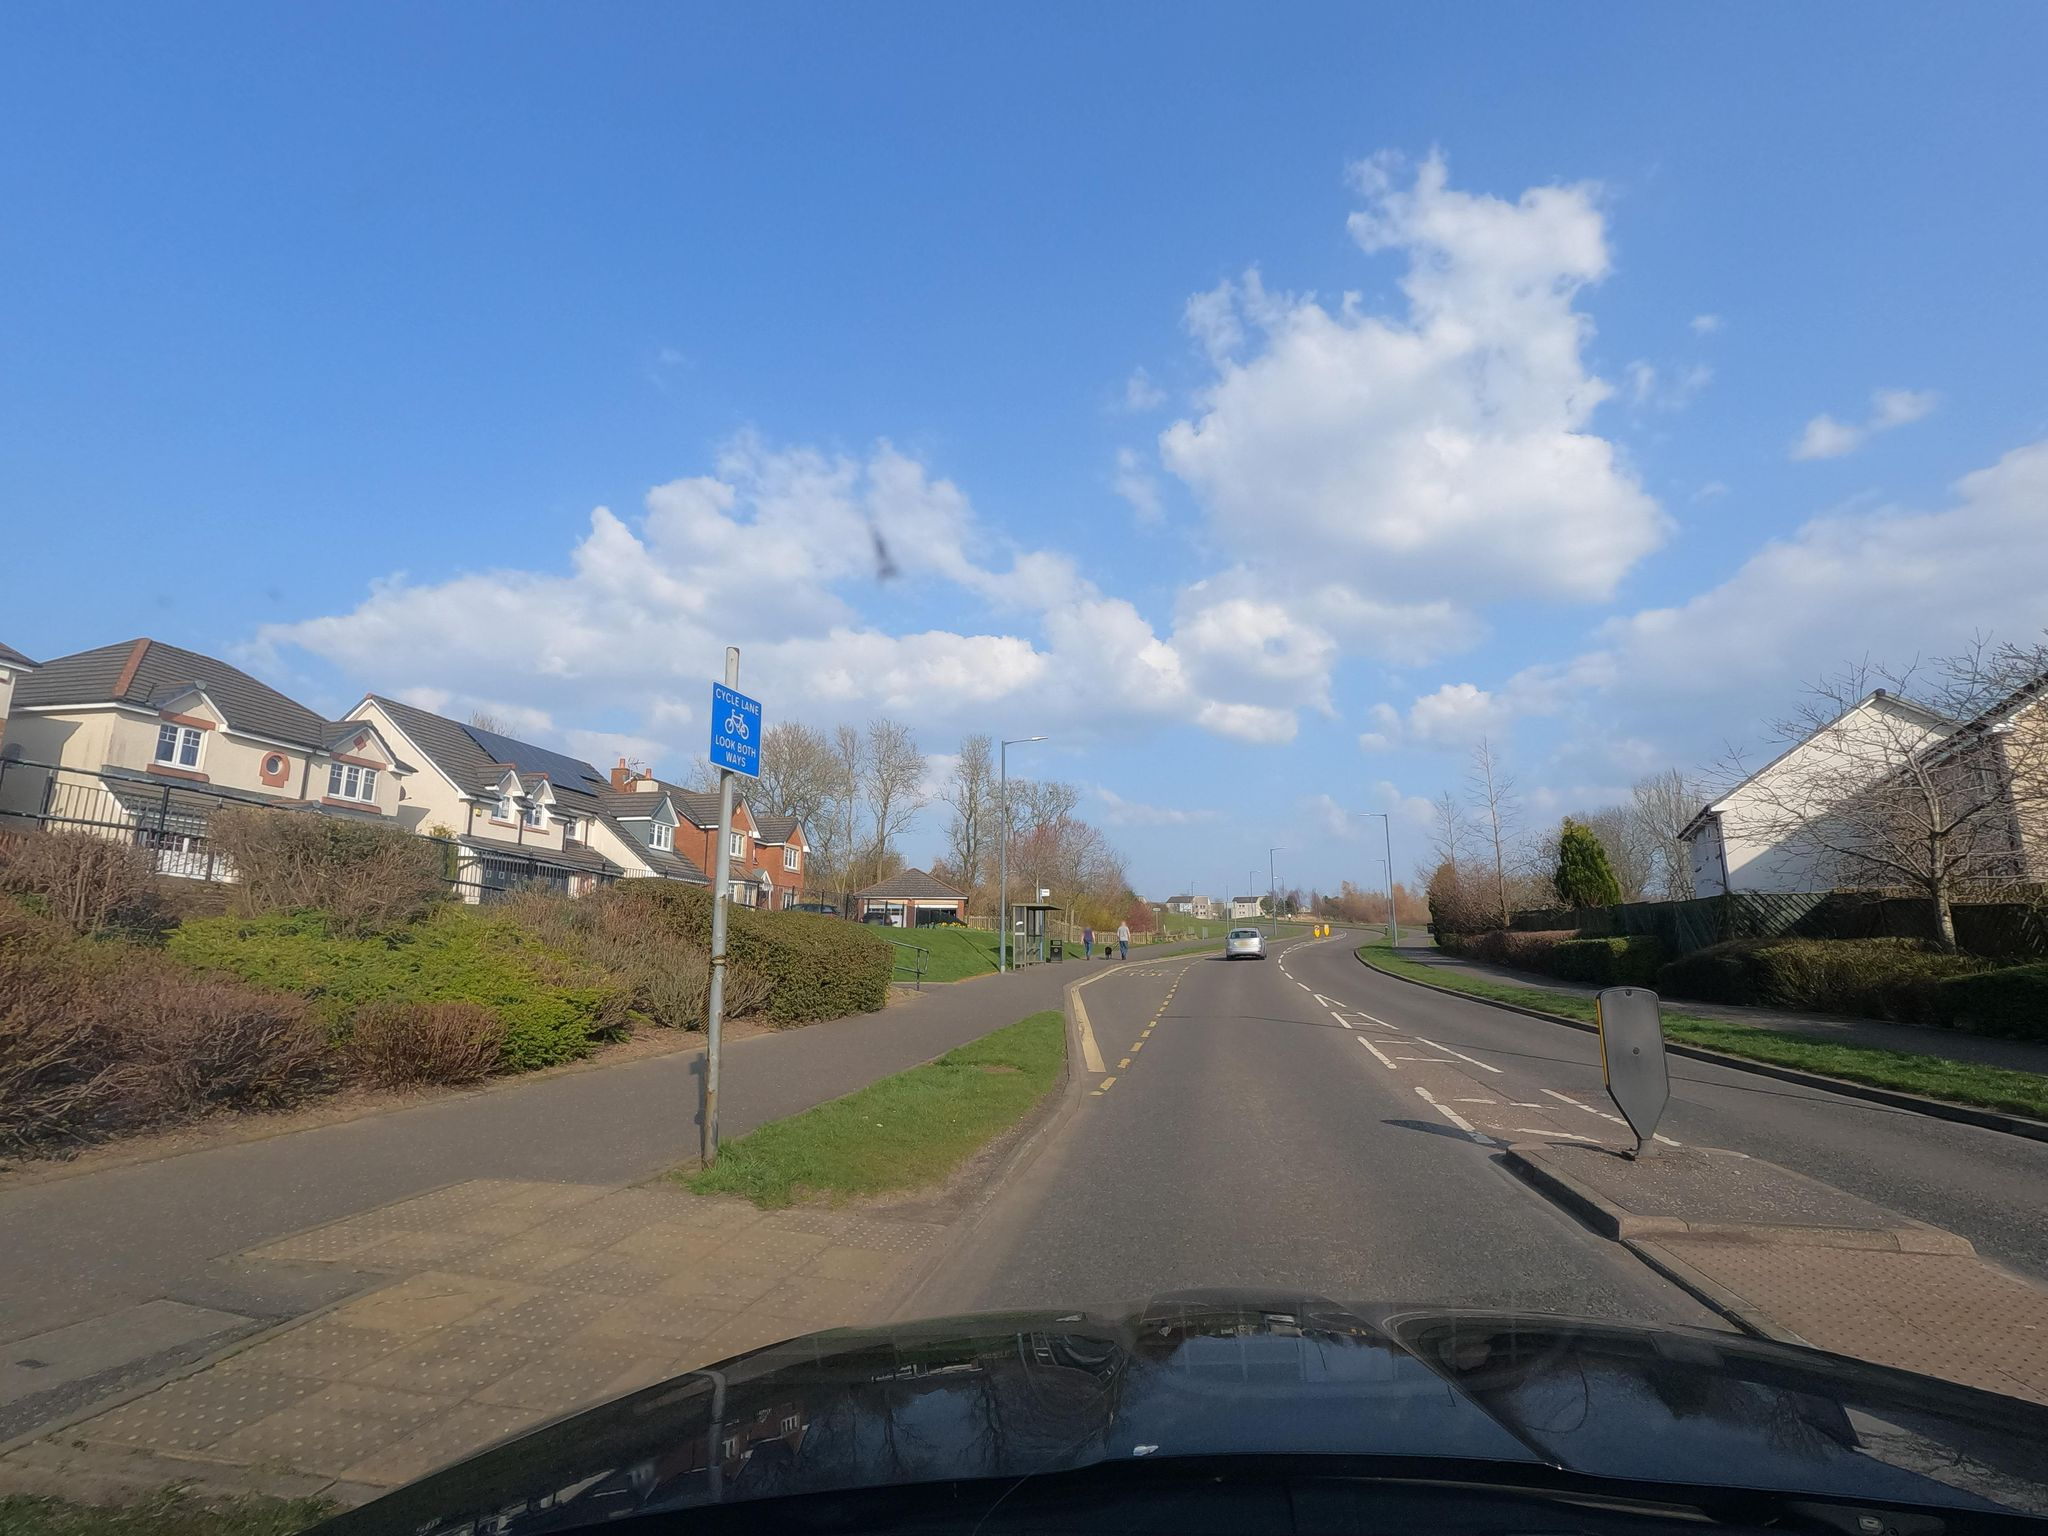car: (1222, 928, 1268, 958)
